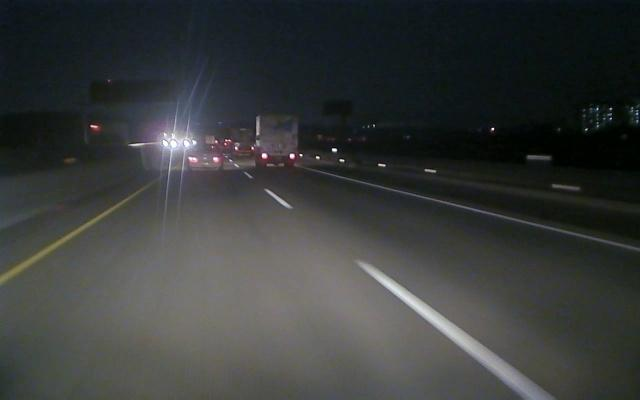lane: (249, 176, 557, 399), (347, 177, 640, 253), (1, 177, 162, 284)
